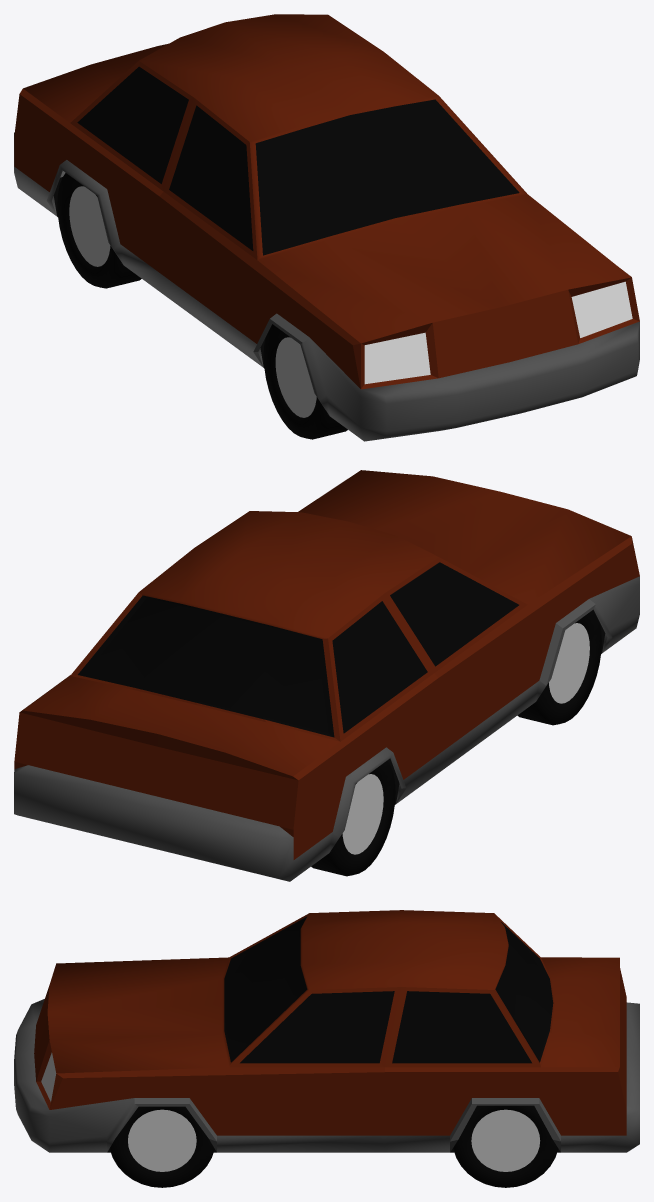
File: browncar.glb
3 views of the same model, one above another, from view 1: azimuth 30°, elevation 25°; view 2: azimuth 150°, elevation 25°; view 3: azimuth 270°, elevation 25° (orthographic). The views are drawn at different scales.
Visible parts, largest first — view 1: Car.001, Car; view 2: Car.001, Car; view 3: Car.001, Car.
Boxes of the visible parts, x1,y1,x2,y2 form: Car.001: (14,14,639,389); Car: (14,66,639,441); Car.001: (14,470,639,859); Car: (14,562,639,881); Car.001: (34,910,626,1135); Car: (14,917,639,1187).
Bounding box in the file's own units: 2.1 × 1.59 × 4.66.
